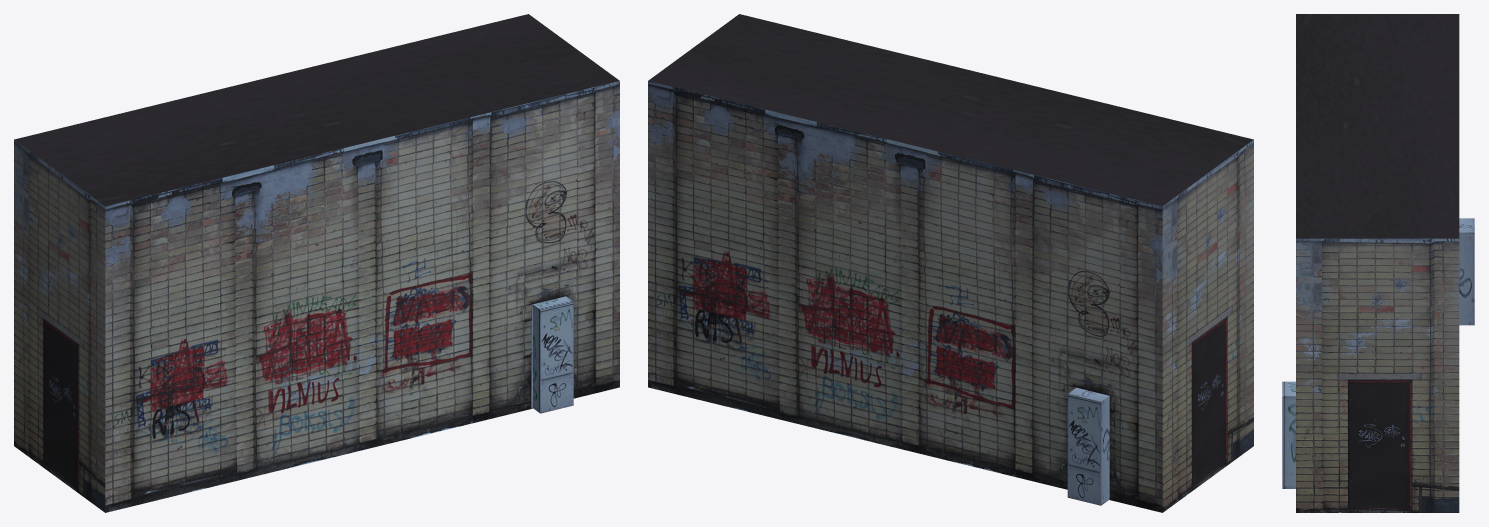
File: elektr_zirm.FBX
The picture shows the model from 3 angles, left to right: view 1: azimuth 30°, elevation 25°; view 2: azimuth 150°, elevation 25°; view 3: azimuth 270°, elevation 25°; orthographic projection. The views are drawn at different scales.
Parts seen in each view (by area): view 1: Box002; view 2: Box002; view 3: Box002.
Boxes of the visible parts, bbox=[...] form: Box002: bbox=[14, 14, 619, 512]; Box002: bbox=[648, 14, 1253, 512]; Box002: bbox=[1282, 14, 1474, 512].
Size of the model in its own units: 50.49 by 28.76 by 18.28.
